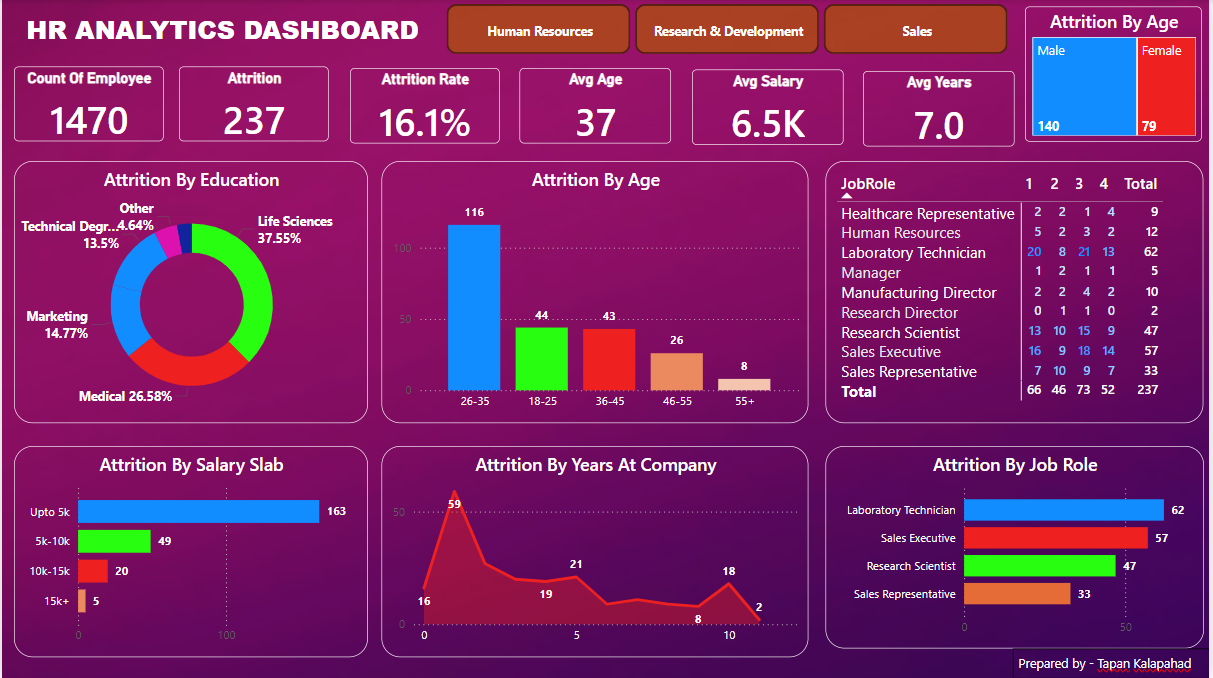

This screenshot's page, from the dashboard's own definition file:
{"tool":"powerbi","page":{"name":"HR ANALYSIS","canvas":[1280,720],"ordinal":0},"visuals":[{"type":"cardVisual","title":"Count Of Employee","fields":{"Data":["CountNonNull(HR_Analytics.EmpID)"]},"box":[12.7,71.5,158.9,79.5],"z":0},{"type":"cardVisual","title":"Avg Age","fields":{"Data":["Avg(HR_Analytics.Age)"]},"box":[548.3,73.1,160.5,80],"z":1000},{"type":"cardVisual","title":"Attrition","fields":{"Data":["Sum(HR_Analytics.AttritionCount)"]},"box":[187.5,71.5,158.9,79.5],"z":2000},{"type":"cardVisual","title":"Attrition Rate","fields":{"Data":["HR_Analytics.AttritionRate"]},"box":[368.7,73.1,158.9,80],"z":3000},{"type":"cardVisual","title":"Avg Salary","fields":{"Data":["Avg(HR_Analytics.MonthlyIncome)"]},"box":[731.1,74.7,160.5,80],"z":4000},{"type":"cardVisual","title":"Avg Years","fields":{"Data":["Avg(HR_Analytics.YearsAtCompany)"]},"box":[912.3,76.3,160.5,80],"z":5000},{"type":"donutChart","title":"Attrition By Education","fields":{"Category":["HR_Analytics.EducationField"],"Y":["Sum(HR_Analytics.AttritionCount)"]},"box":[12.7,171.7,375.1,278.1],"z":6000},{"type":"columnChart","title":"Attrition By Age","fields":{"Category":["HR_Analytics.AgeGroup"],"Y":["Sum(HR_Analytics.AttritionCount)"]},"box":[402.1,171.7,453,278.1],"z":7000},{"type":"pivotTable","fields":{"Rows":["HR_Analytics.JobRole"],"Columns":["HR_Analytics.JobSatisfaction"],"Values":["Sum(HR_Analytics.AttritionCount)"]},"box":[872.6,171.7,400.5,278.1],"z":8000},{"type":"barChart","title":"Attrition By Salary Slab","fields":{"Category":["HR_Analytics.SalarySlab"],"Y":["Sum(HR_Analytics.AttritionCount)"]},"box":[12.7,473.6,375.1,224.1],"z":9000},{"type":"barChart","title":"Attrition By Job Role","fields":{"Y":["Sum(HR_Analytics.AttritionCount)"],"Category":["HR_Analytics.JobRole"]},"box":[872.9,473.9,401,214.7],"z":10000},{"type":"areaChart","title":"Attrition By Years At Company","fields":{"Category":["HR_Analytics.YearsAtCompany"],"Y":["Sum(HR_Analytics.AttritionCount)"]},"box":[402.1,473.6,453,224.1],"z":11000},{"type":"treemap","title":"Attrition By Age","fields":{"Group":["HR_Analytics.Gender"],"Values":["Sum(HR_Analytics.AttritionCount)"]},"box":[1085.6,7.9,187.5,143],"z":12000},{"type":"advancedSlicerVisual","fields":{"Values":["HR_Analytics.Department"]},"box":[465.7,0,607.2,63.6],"z":13000},{"type":"textbox","box":[20.7,7.9,445,55.6],"z":14000},{"type":"textbox","box":[1081.5,688.6,198.5,32.4],"z":15000}]}

Visuals, with their boxes in screenshot pixels (x1, y1, x2, y2), scaled from the page's 1280x720 canvas onto the 1213x678 screenshot:
"Count Of Employee" cardVisual: select_region(12, 67, 163, 142)
"Avg Age" cardVisual: select_region(520, 69, 672, 144)
"Attrition" cardVisual: select_region(178, 67, 328, 142)
"Attrition Rate" cardVisual: select_region(349, 69, 500, 144)
"Avg Salary" cardVisual: select_region(693, 70, 845, 146)
"Avg Years" cardVisual: select_region(865, 72, 1017, 147)
"Attrition By Education" donutChart: select_region(12, 162, 368, 424)
"Attrition By Age" columnChart: select_region(381, 162, 810, 424)
pivotTable - HR_Analytics.JobRole x HR_Analytics.JobSatisfaction: select_region(827, 162, 1206, 424)
"Attrition By Salary Slab" barChart: select_region(12, 446, 368, 657)
"Attrition By Job Role" barChart: select_region(827, 446, 1207, 648)
"Attrition By Years At Company" areaChart: select_region(381, 446, 810, 657)
"Attrition By Age" treemap: select_region(1029, 7, 1206, 142)
advancedSlicerVisual - HR_Analytics.Department: select_region(441, 0, 1017, 60)
textbox: select_region(20, 7, 441, 60)
textbox: select_region(1025, 648, 1212, 677)
